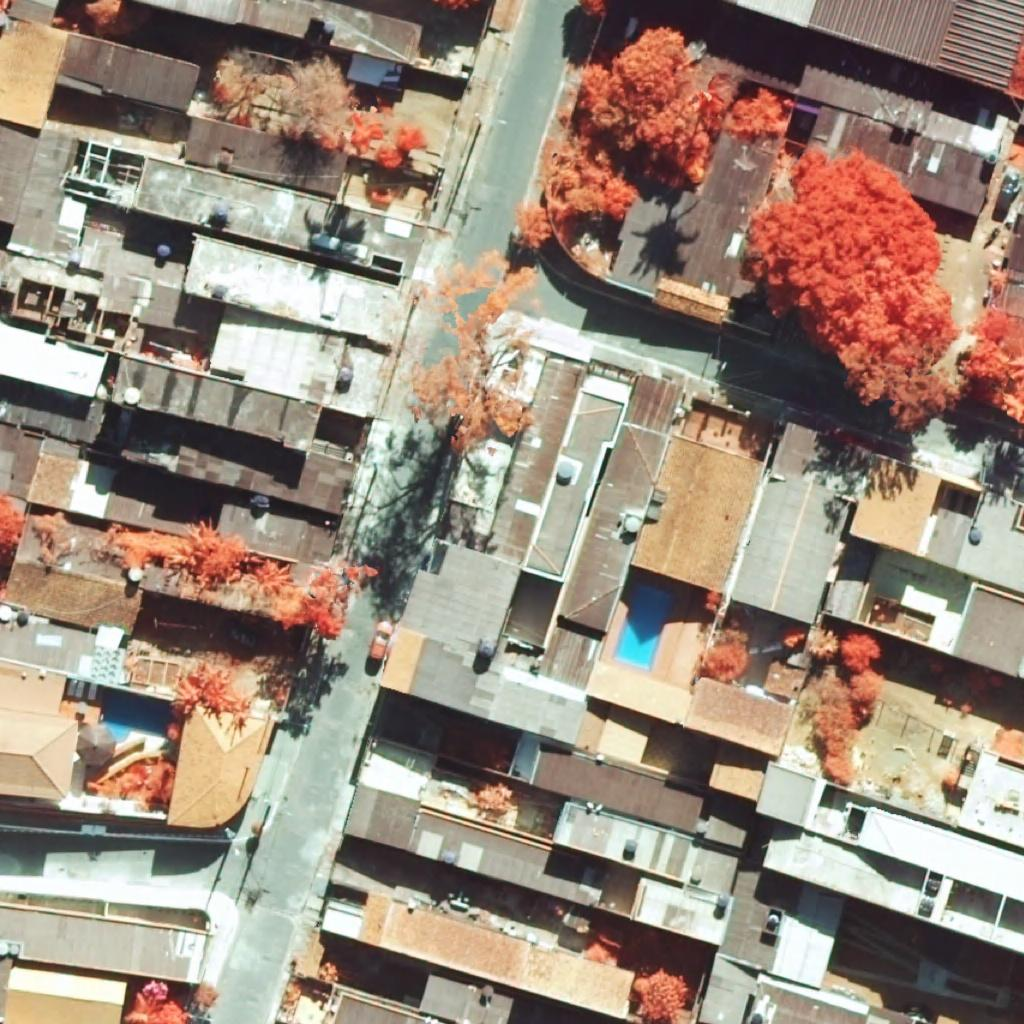pool: (615, 584, 672, 670), (101, 689, 171, 744)
